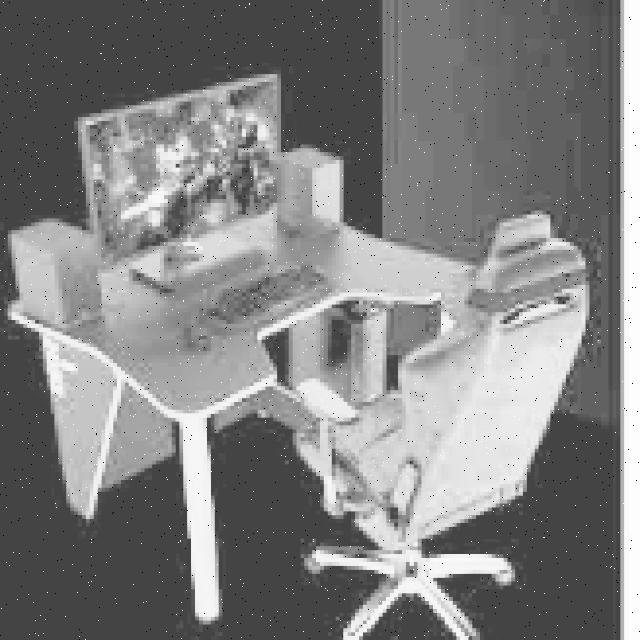book: (262, 207, 593, 640)
table: (8, 203, 484, 624)
